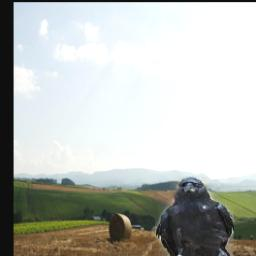Crow: (156, 177, 235, 256)
